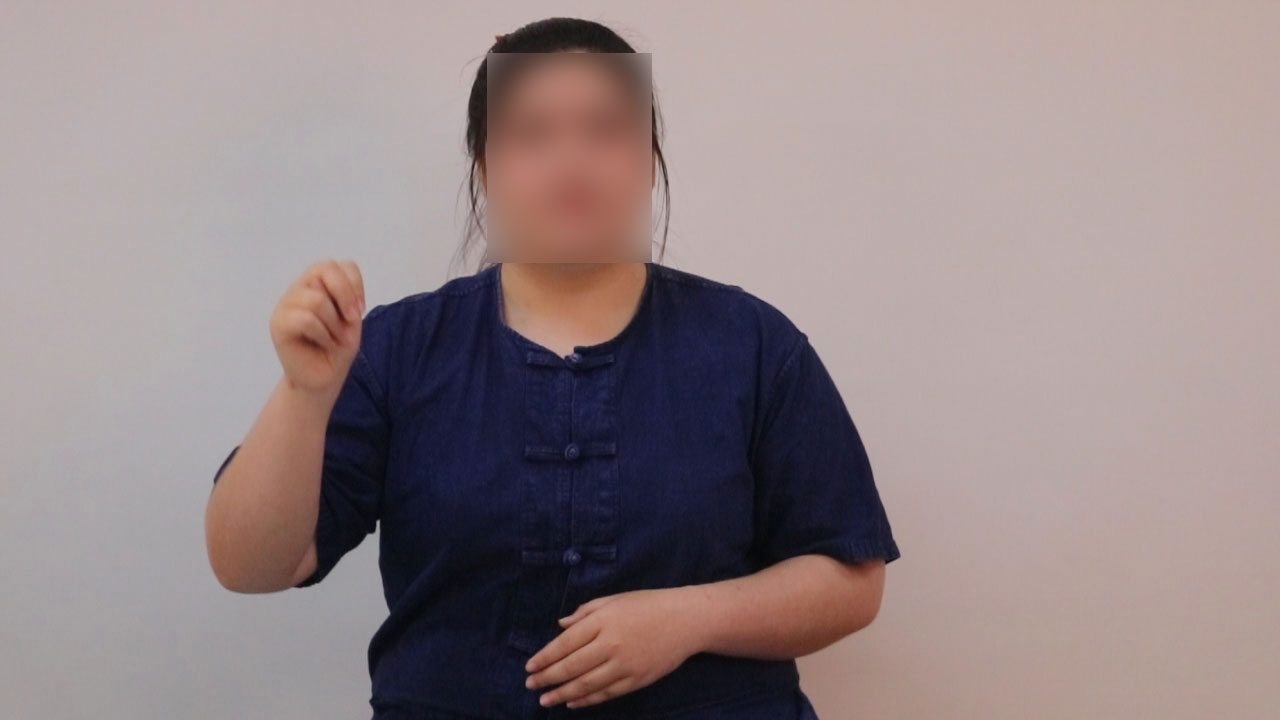nor: (261, 240, 388, 388)
